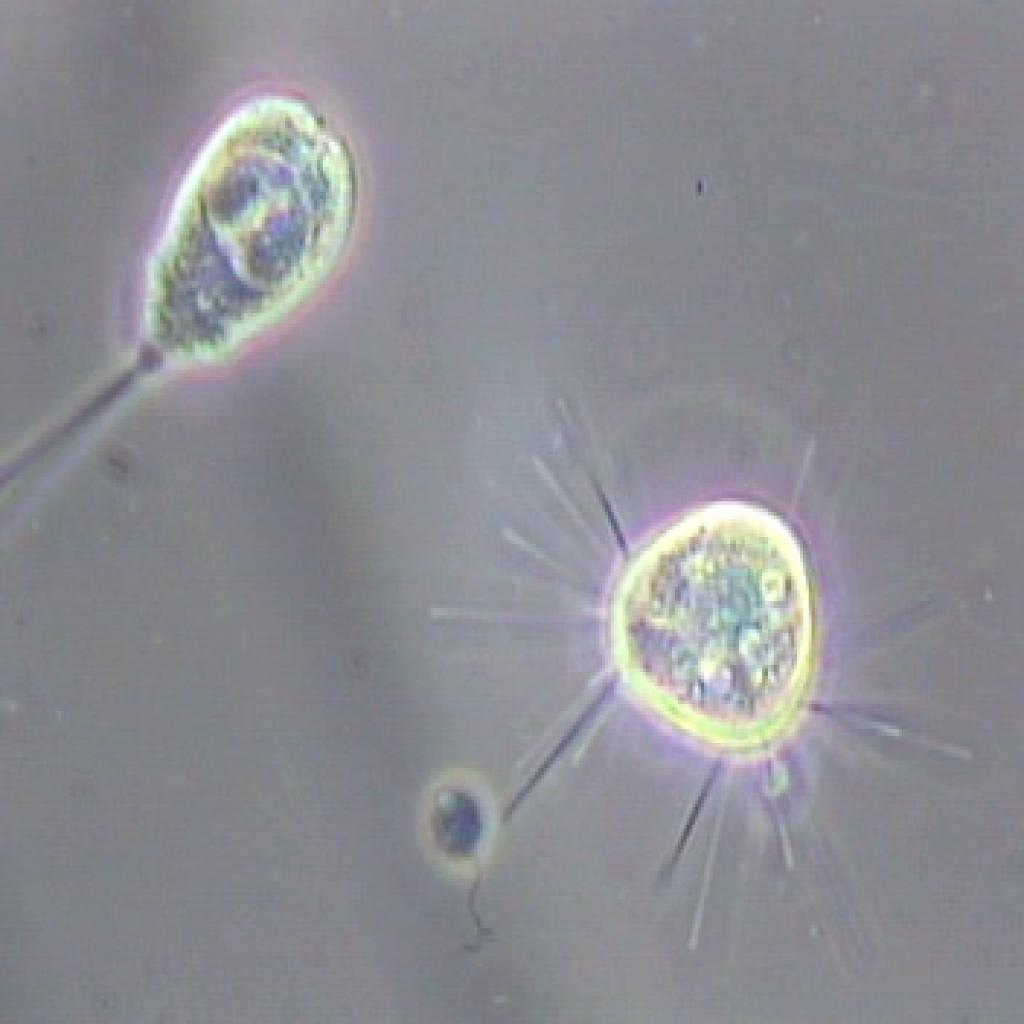Flagellates: (410, 770, 503, 986)
